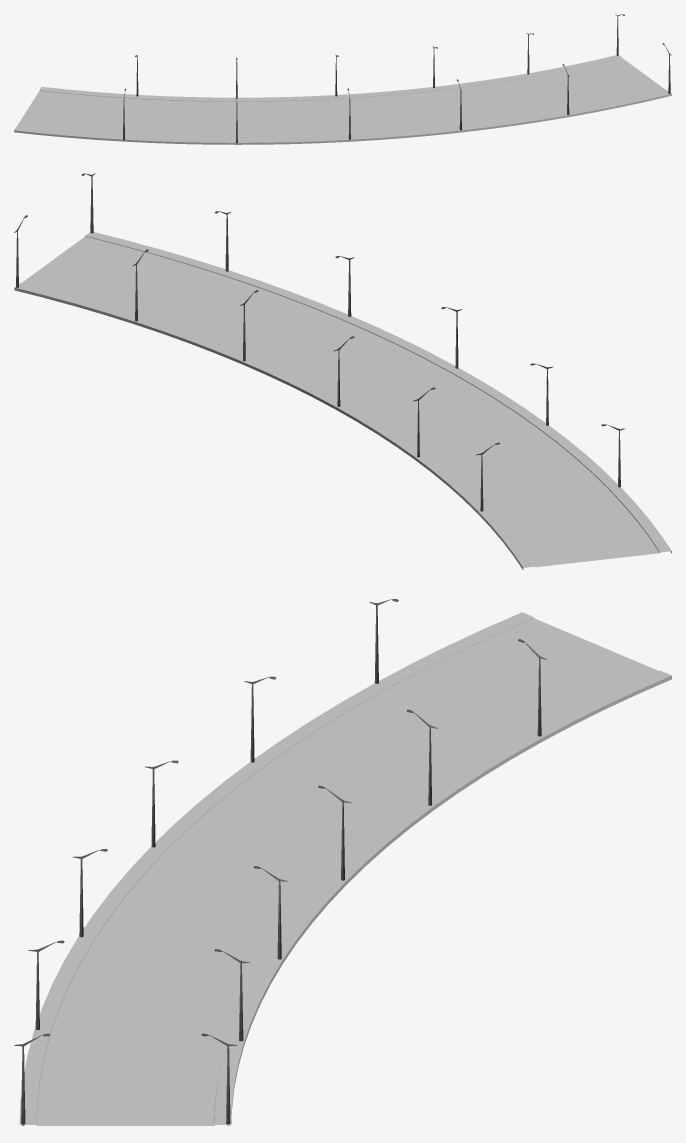
File: Big_Road_45.FBX
3 views of the same model, one above another, from view 1: azimuth 30°, elevation 25°; view 2: azimuth 150°, elevation 25°; view 3: azimuth 270°, elevation 25° (orthographic). The views are drawn at different scales.
Parts seen in each view (by area): view 1: Big_Road_45, city_light008; view 2: Big_Road_45, city_light008; view 3: Big_Road_45, city_light008.
Boxes of the visible parts, box(x1,y1,x2,y2) form: Big_Road_45: box(14, 55, 671, 144); city_light008: box(123, 14, 671, 143); Big_Road_45: box(14, 232, 671, 569); city_light008: box(14, 173, 625, 511); Big_Road_45: box(19, 612, 671, 1125); city_light008: box(14, 599, 546, 1125).
Bounding box in the file's own units: 130 × 70.46 × 11.04.
